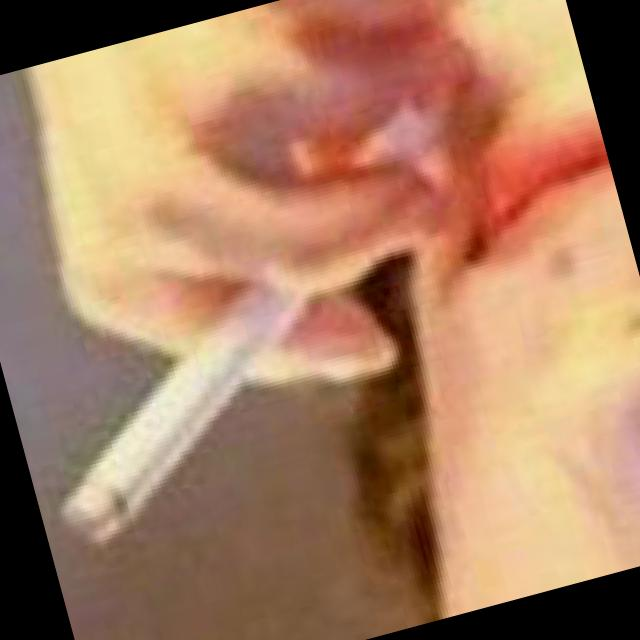smoke: (0, 66, 542, 598)
